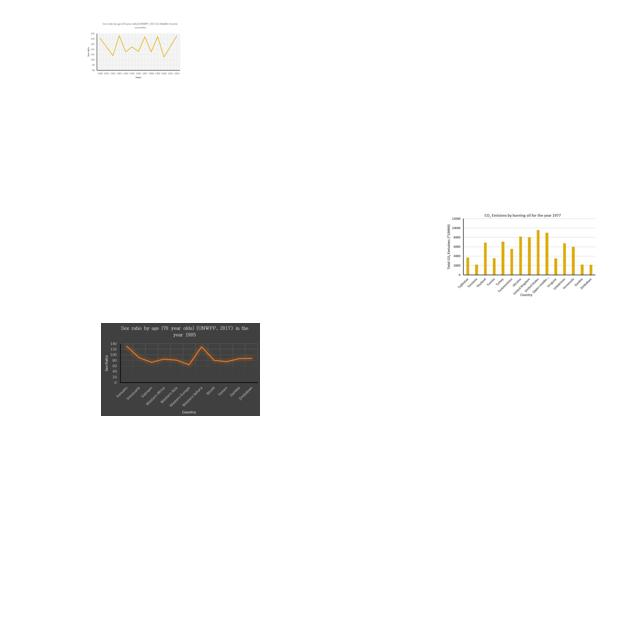Graph: (101, 323, 260, 416), (446, 212, 597, 298), (85, 22, 182, 80)
